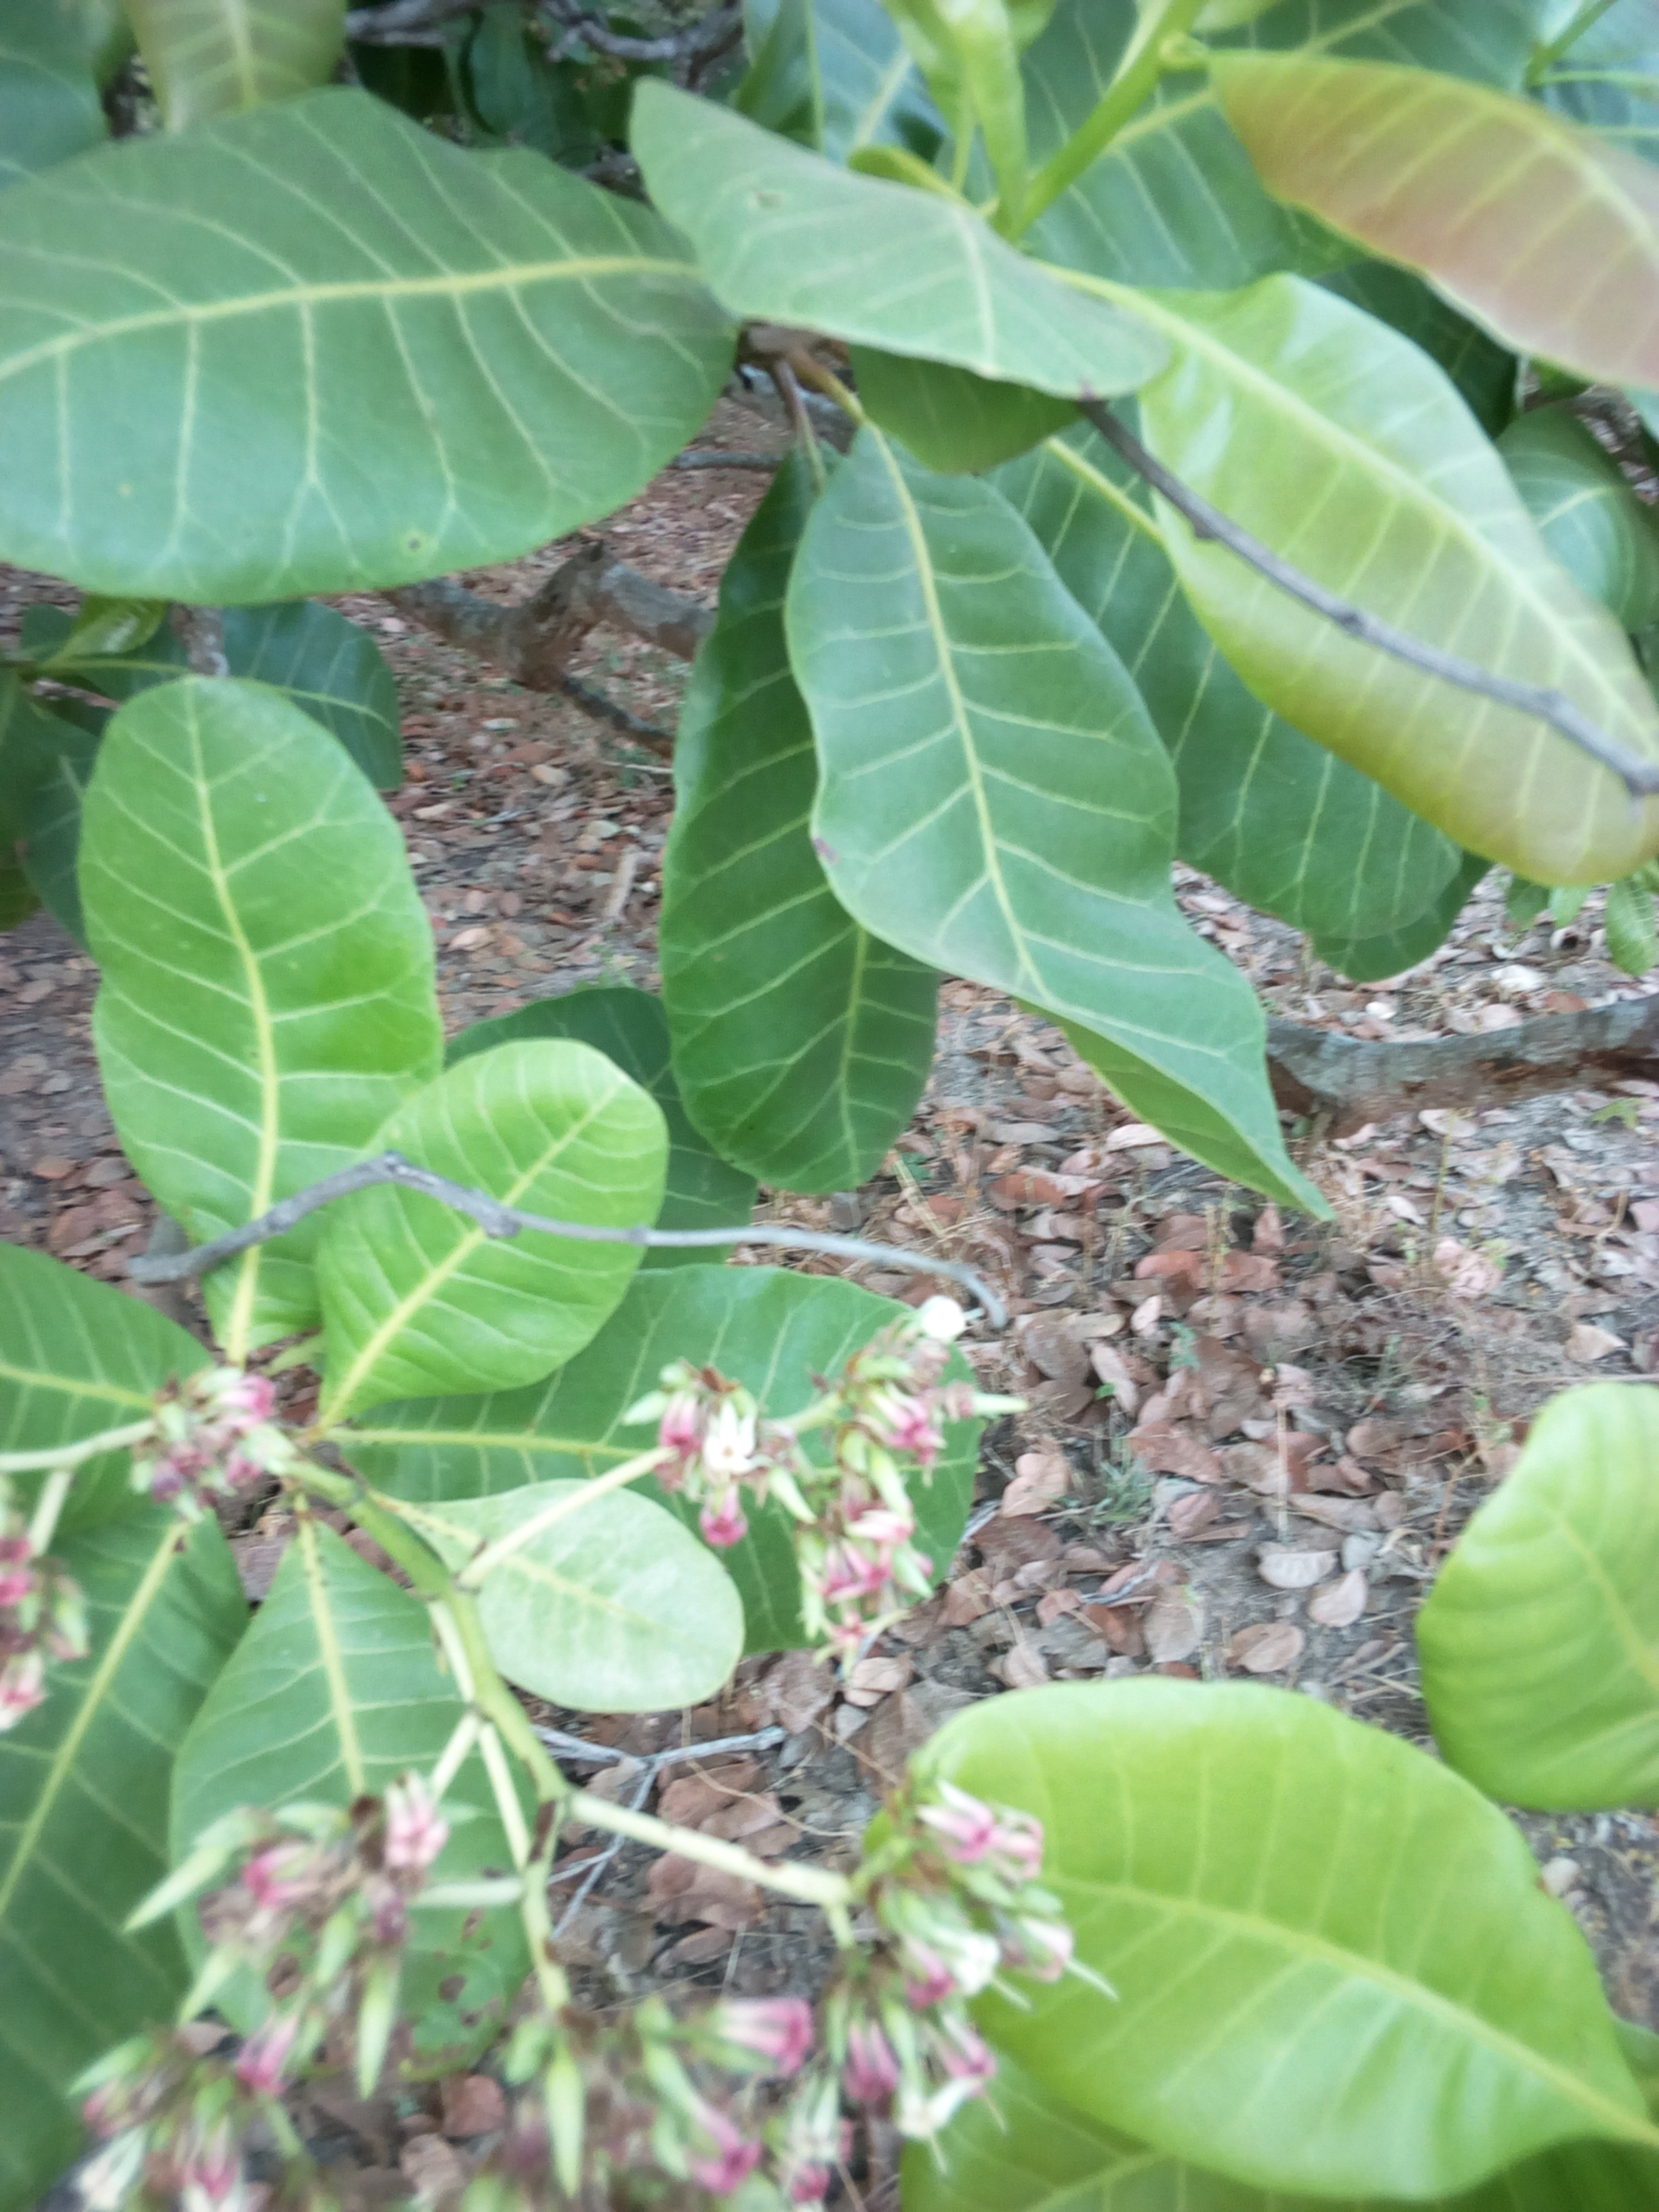Dessèchement des bourgeons: (138, 1153, 549, 1296)
